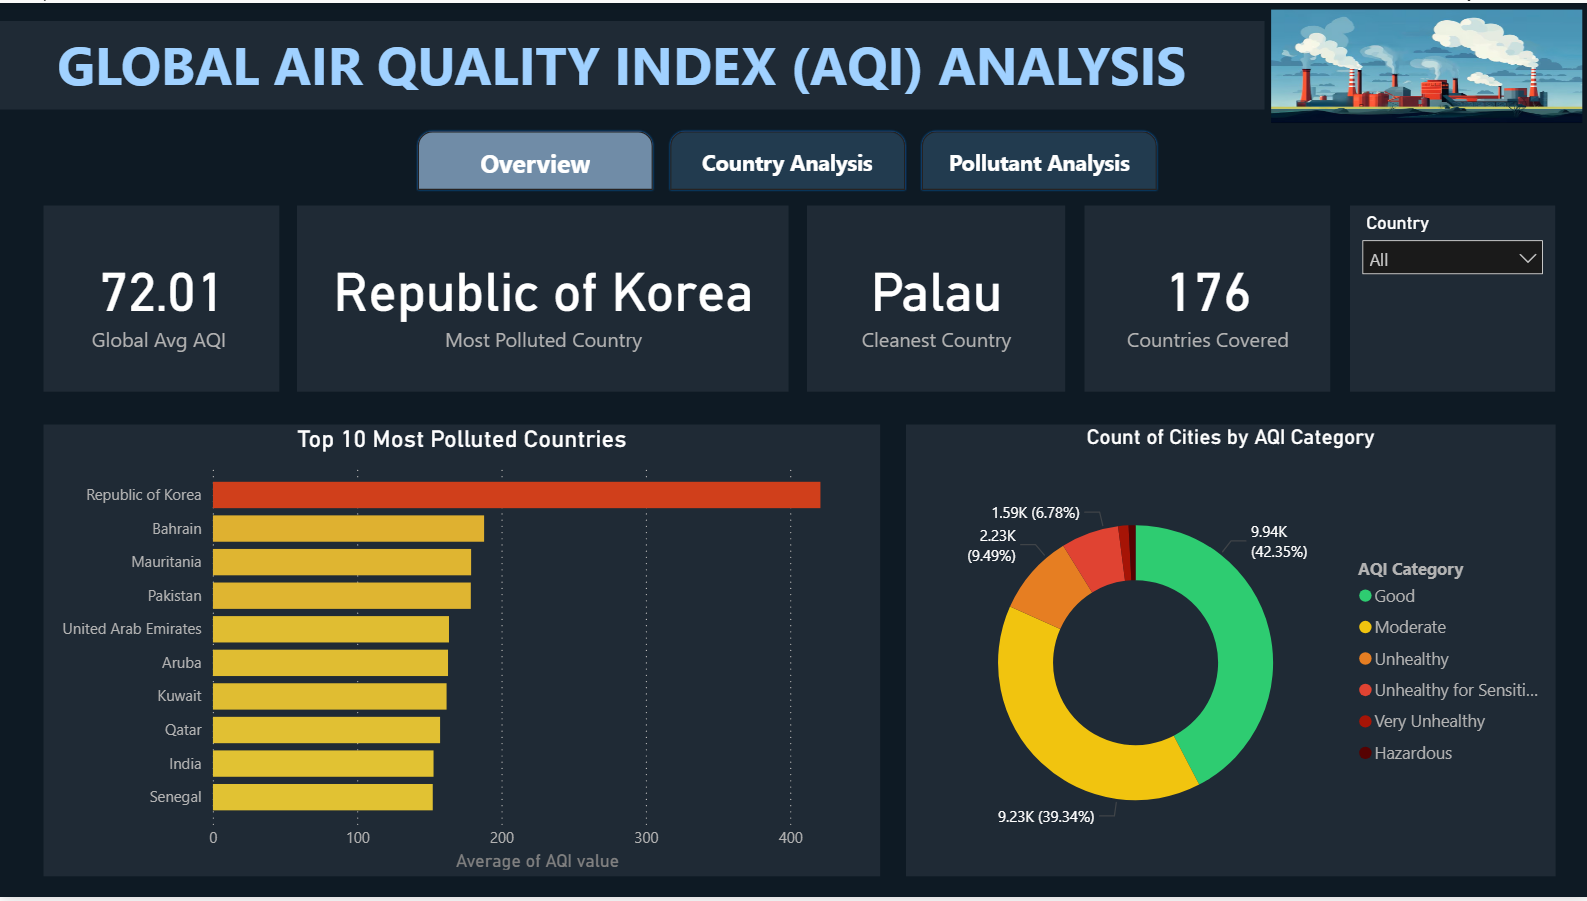

The dashboard page shown, as its layout file describes it:
{"tool":"powerbi","page":{"name":"Overview","canvas":[1280,720],"ordinal":0},"visuals":[{"type":"textbox","box":[0,14.5,1018.6,71.3],"z":0},{"type":"image","box":[1018.6,0,261,101.5],"z":1000},{"type":"card","fields":{"Values":["Avg(global_air_pollution_data.aqi_value)"]},"box":[35,163.1,189.7,149.8],"z":2000},{"type":"slicer","fields":{"Values":["global_air_pollution_data.country_name"]},"box":[1087.5,163.1,165.5,149.8],"z":3000},{"type":"card","fields":{"Values":["Count(global_air_pollution_data.country_name)"]},"box":[873.6,163.1,198.2,149.8],"z":4000},{"type":"donutChart","title":"Count of Cities by AQI Category","fields":{"Category":["global_air_pollution_data.aqi_category"],"Y":["Count(global_air_pollution_data.city_name)"]},"box":[729.8,339.5,523.2,363.7],"z":5000},{"type":"card","fields":{"Values":["calculated_tbl.Most_polluted_country"]},"box":[239.2,163.1,396.3,149.8],"z":6000},{"type":"card","fields":{"Values":["calculated_tbl.Cleanest Country"]},"box":[650.1,163.1,207.8,149.8],"z":7000},{"type":"clusteredBarChart","title":"Top 10 Most Polluted Countries","fields":{"Y":["Avg(global_air_pollution_data.aqi_value)"],"Category":["global_air_pollution_data.country_name"]},"box":[35,339.5,674.2,363.7],"z":8000},{"type":"pageNavigator","box":[334.7,101.5,600.5,52],"z":9000}]}

Visuals, with their boxes in screenshot pixels (x1, y1, x2, y2), scaled from the page's 1280x720 canvas onto the 1587x901 screenshot:
textbox: x1=0, y1=18, x2=1263, y2=107
image: x1=1263, y1=0, x2=1586, y2=127
card - Avg(global_air_pollution_data.aqi_value): x1=43, y1=204, x2=279, y2=392
slicer - global_air_pollution_data.country_name: x1=1348, y1=204, x2=1554, y2=392
card - Count(global_air_pollution_data.country_name): x1=1083, y1=204, x2=1329, y2=392
"Count of Cities by AQI Category" donutChart: x1=905, y1=425, x2=1554, y2=880
card - calculated_tbl.Most_polluted_country: x1=297, y1=204, x2=788, y2=392
card - calculated_tbl.Cleanest Country: x1=806, y1=204, x2=1064, y2=392
"Top 10 Most Polluted Countries" clusteredBarChart: x1=43, y1=425, x2=879, y2=880
pageNavigator: x1=415, y1=127, x2=1160, y2=192
